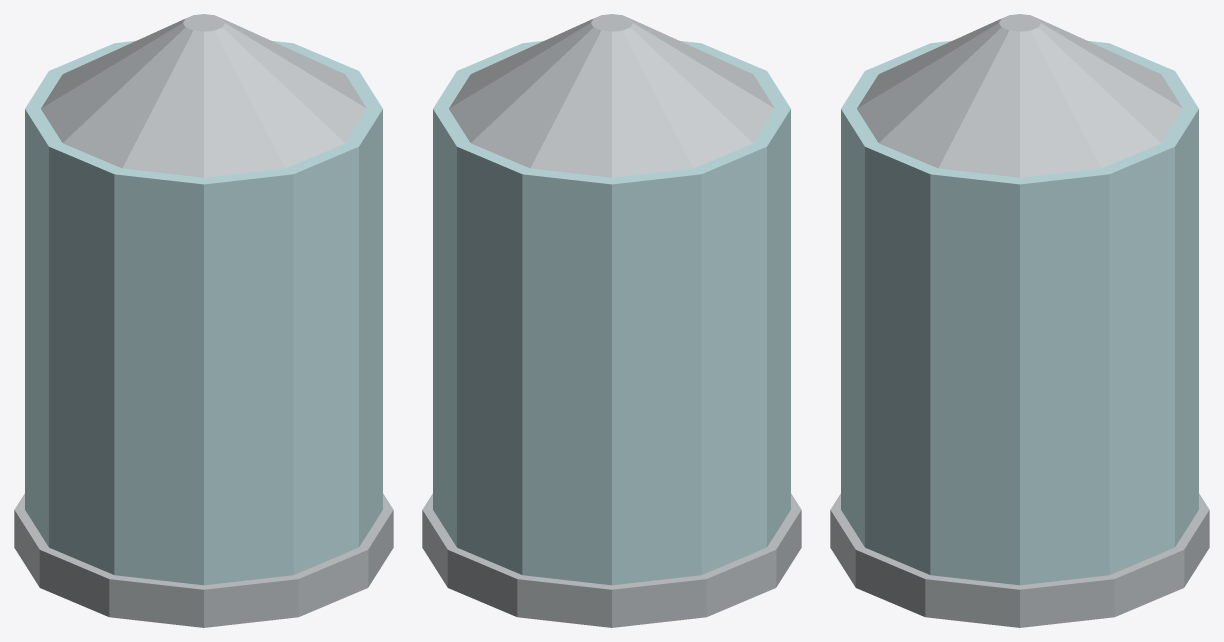
File: sm_product_parrot_cage.glb
3 views of the same model, side by side, from view 1: azimuth 30°, elevation 25°; view 2: azimuth 150°, elevation 25°; view 3: azimuth 270°, elevation 25° (orthographic).
Parts seen in each view (by area): view 1: parrot_cage_1, parrot_cage_3, parrot_cage_0; view 2: parrot_cage_1, parrot_cage_3, parrot_cage_0; view 3: parrot_cage_1, parrot_cage_3, parrot_cage_0.
Part boxes in pixels (<box>): parrot_cage_1: <box>25,41,382,585</box>; parrot_cage_3: <box>41,14,366,177</box>; parrot_cage_0: <box>14,493,393,627</box>; parrot_cage_1: <box>433,41,790,585</box>; parrot_cage_3: <box>449,14,774,177</box>; parrot_cage_0: <box>422,493,801,627</box>; parrot_cage_1: <box>841,41,1198,585</box>; parrot_cage_3: <box>857,14,1182,177</box>; parrot_cage_0: <box>830,493,1209,627</box>.
Size of what is drawn, in the model's own units: 0.36 by 0.55 by 0.36.
